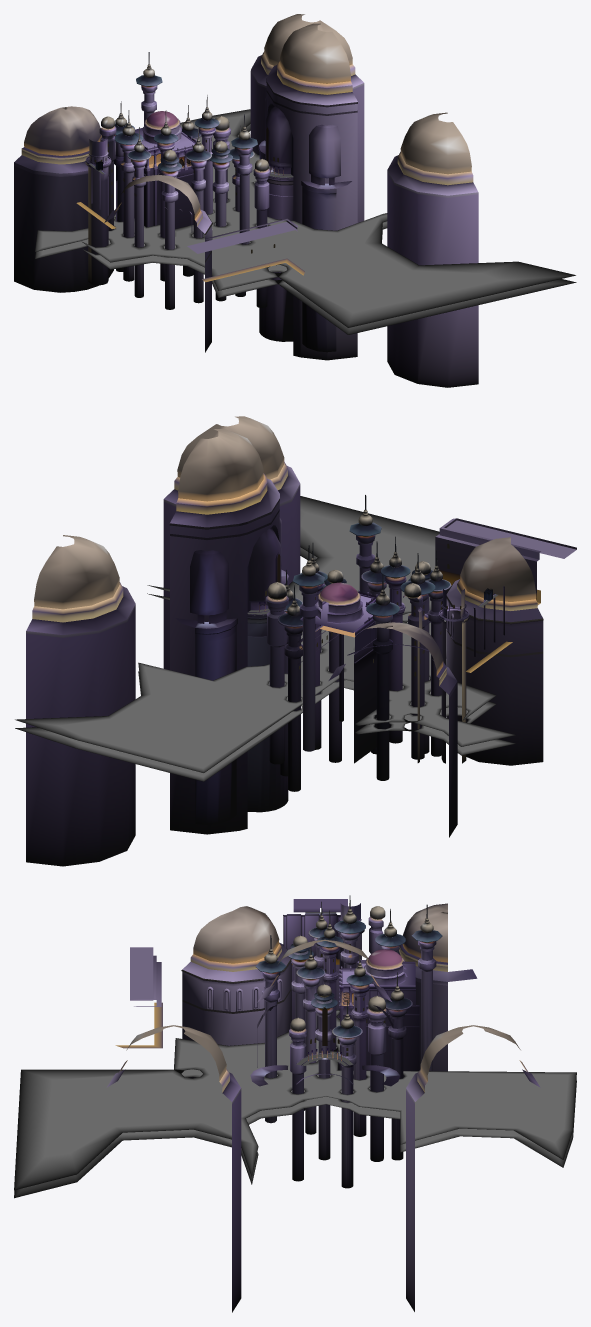
File: 05Carpet.gltf
3 views of the same model, one above another, from view 1: azimuth 30°, elevation 25°; view 2: azimuth 150°, elevation 25°; view 3: azimuth 270°, elevation 25° (orthographic). The views are drawn at different scales.
Visible parts, largest first — view 1: stg070_o02_Mesh_0185, stg070_cloud_k_02_Mesh_0000, stg070_o02_Mesh_0130, stg070_o02_Mesh_0027, stg070_o02_Mesh_0078, stg070_o02_Mesh_0156, stg070_o02_Mesh_0114; view 2: stg070_o02_Mesh_0130, stg070_o02_Mesh_0185, stg070_cloud_k_02_Mesh_0000, stg070_o02_Mesh_0027, stg070_o02_Mesh_0078, stg070_o02_Mesh_0156, stg070_o02_Mesh_0183, stg070_o02_Mesh_0114; view 3: stg070_cloud_k_02_Mesh_0000, stg070_o02_Mesh_0130, stg070_o02_Mesh_0027, stg070_o02_Mesh_0185, stg070_o02_Mesh_0078, stg070_o02_Mesh_0156, stg070_o02_Mesh_0183, stg070_o02_Mesh_0114.
Boxes of the visible parts, x1=… form: stg070_o02_Mesh_0185: x1=14, y1=72, x2=478, y2=387; stg070_cloud_k_02_Mesh_0000: x1=35, y1=109, x2=576, y2=334; stg070_o02_Mesh_0130: x1=14, y1=55, x2=477, y2=360; stg070_o02_Mesh_0027: x1=24, y1=14, x2=471, y2=282; stg070_o02_Mesh_0078: x1=21, y1=51, x2=478, y2=279; stg070_o02_Mesh_0156: x1=14, y1=68, x2=352, y2=237; stg070_o02_Mesh_0114: x1=93, y1=91, x2=340, y2=199; stg070_o02_Mesh_0130: x1=26, y1=466, x2=543, y2=834; stg070_o02_Mesh_0185: x1=26, y1=486, x2=466, y2=866; stg070_cloud_k_02_Mesh_0000: x1=15, y1=496, x2=515, y2=781; stg070_o02_Mesh_0027: x1=34, y1=416, x2=576, y2=763; stg070_o02_Mesh_0078: x1=26, y1=461, x2=543, y2=679; stg070_o02_Mesh_0156: x1=176, y1=483, x2=543, y2=698; stg070_o02_Mesh_0183: x1=443, y1=601, x2=543, y2=654; stg070_o02_Mesh_0114: x1=190, y1=542, x2=461, y2=641; stg070_cloud_k_02_Mesh_0000: x1=14, y1=1010, x2=576, y2=1198; stg070_o02_Mesh_0130: x1=107, y1=903, x2=540, y2=1188; stg070_o02_Mesh_0027: x1=115, y1=903, x2=520, y2=1100; stg070_o02_Mesh_0185: x1=232, y1=899, x2=447, y2=1312; stg070_o02_Mesh_0078: x1=118, y1=913, x2=529, y2=1104; stg070_o02_Mesh_0156: x1=182, y1=895, x2=447, y2=1059; stg070_o02_Mesh_0183: x1=182, y1=963, x2=291, y2=1011; stg070_o02_Mesh_0114: x1=208, y1=923, x2=434, y2=1067.
Bounding box in the file's own units: 982 × 752 × 1140.
